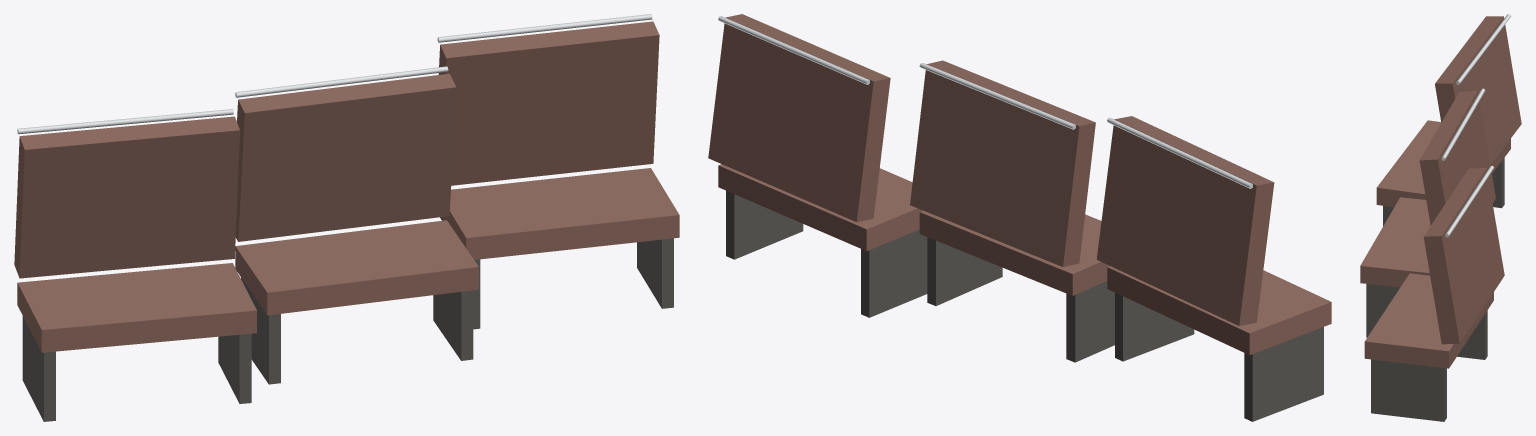
File: festival_bus_seats_a.glb
3 renders of one model, left to right at view 1: azimuth 30°, elevation 25°; view 2: azimuth 150°, elevation 25°; view 3: azimuth 270°, elevation 25°, orthographic. The views are drawn at different scales.
Parts seen in each view (by area): view 1: body; view 2: body; view 3: body.
Part boxes in pixels (x1,y1,x2,y2): body: (14,14,679,421); body: (708,14,1331,421); body: (1360,14,1521,421).
Size of what is drawn, in the model's own units: 2.89 by 1.1 by 0.8492.
